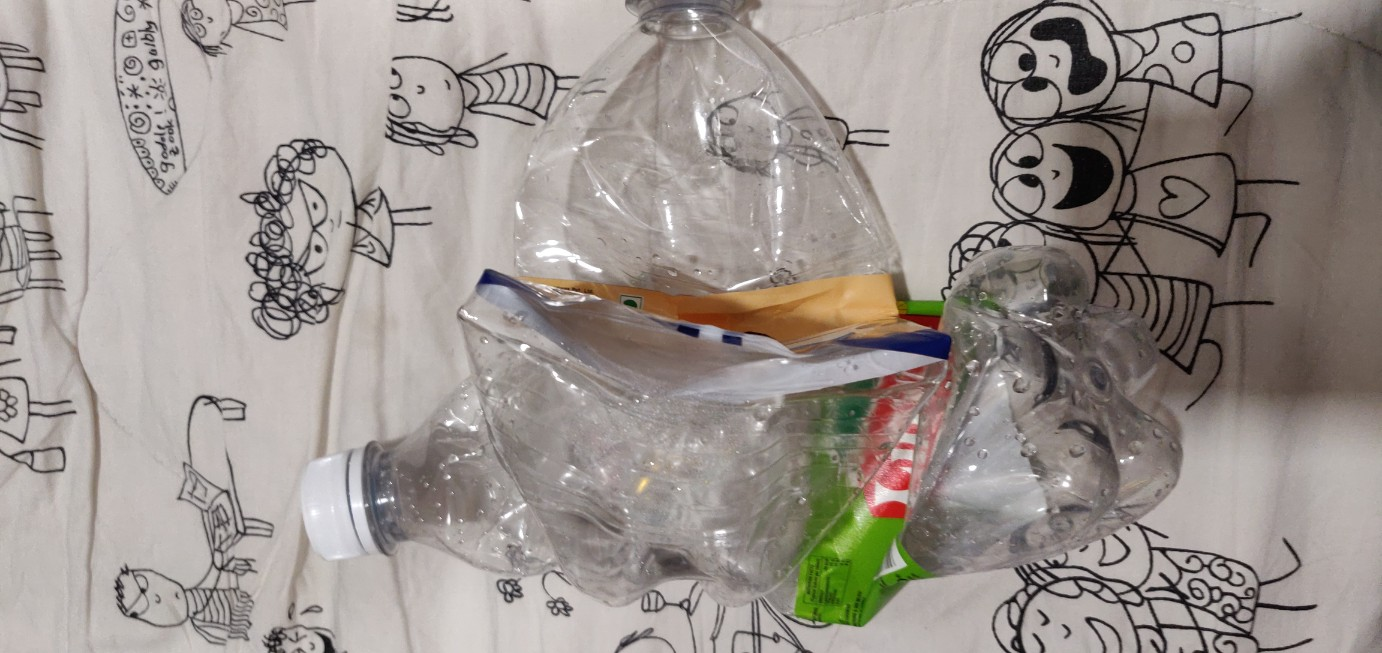Electronics: (262, 241, 1248, 642), (490, 1, 956, 648)
